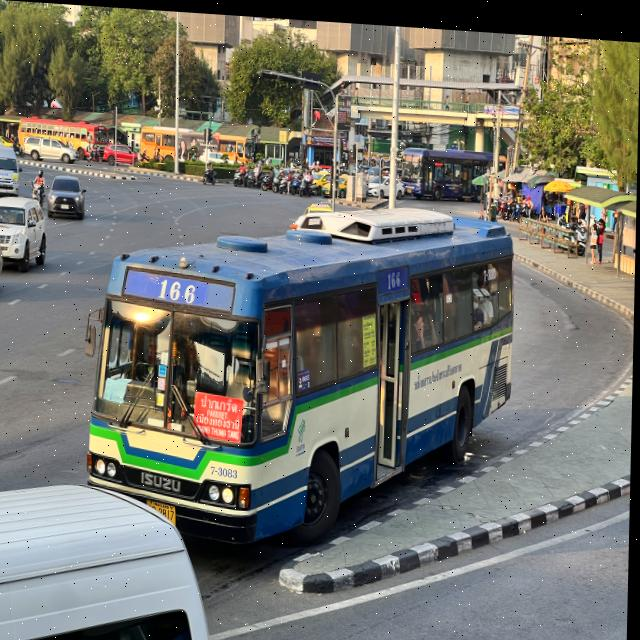BMTA-bus: (86, 188, 519, 560)
Bus-Line-Number: (153, 268, 204, 309)
Destination-Sign-Extra-Bus: (191, 385, 245, 440)
